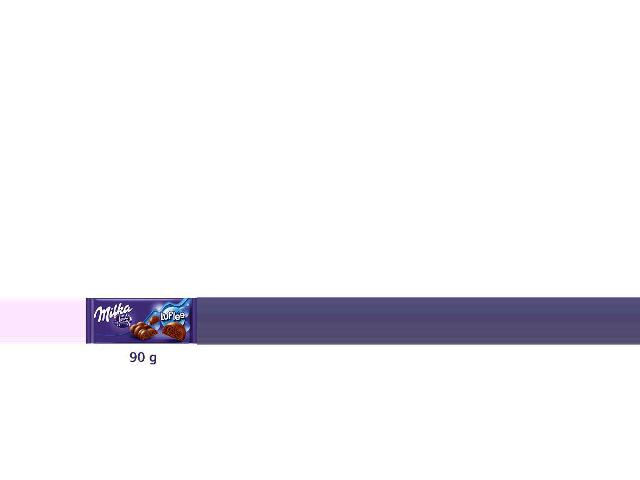chocolate: (88, 297, 197, 343)
